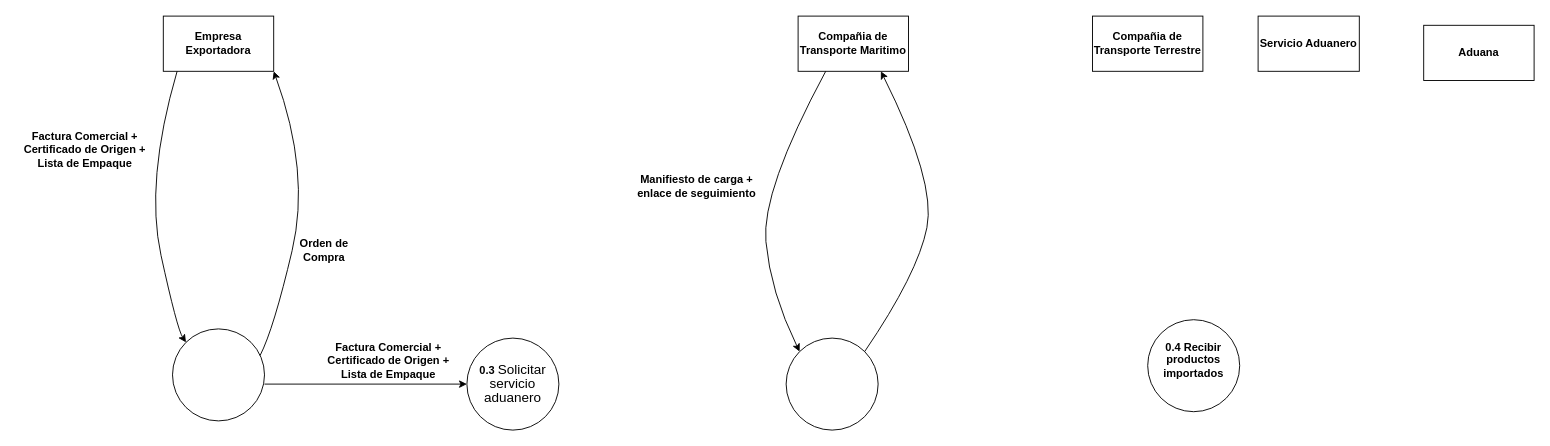
Some shapes in this 1550 by 446 pixel diagram are drawn without their labels. Here are the shapes that lost their labels. From the top down, the centre of each, then its label:
At point (218, 374): "0.1 Emitir orden de Compra".
At point (831, 383): "0.2 Dar segumiento al pedido".
